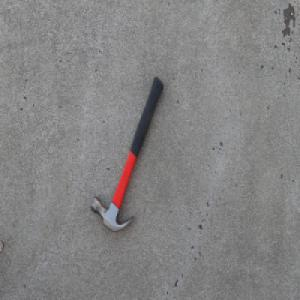Hammer: (90, 75, 164, 233)
